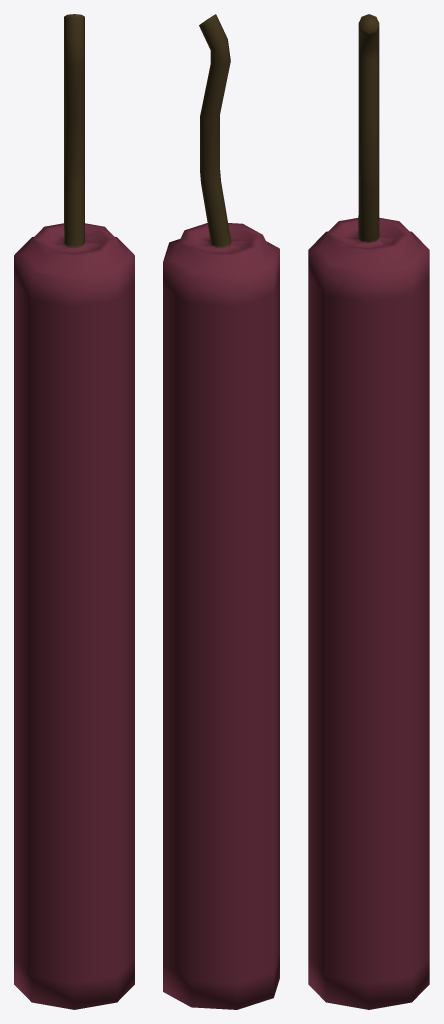
Rendered from dynamite.glb.
3 views of the same model, side by side, from view 1: azimuth 90°, elevation 25°; view 2: azimuth 150°, elevation 25°; view 3: azimuth 270°, elevation 25° (orthographic).
Visible parts, largest first — view 1: Dynamite; view 2: Dynamite; view 3: Dynamite.
Part boxes in pixels (<box>): Dynamite: <box>14,14,134,1009</box>; Dynamite: <box>163,14,279,1009</box>; Dynamite: <box>308,14,429,1009</box>.
Bounding box in the file's own units: 0.06 × 0.5304 × 0.06.
